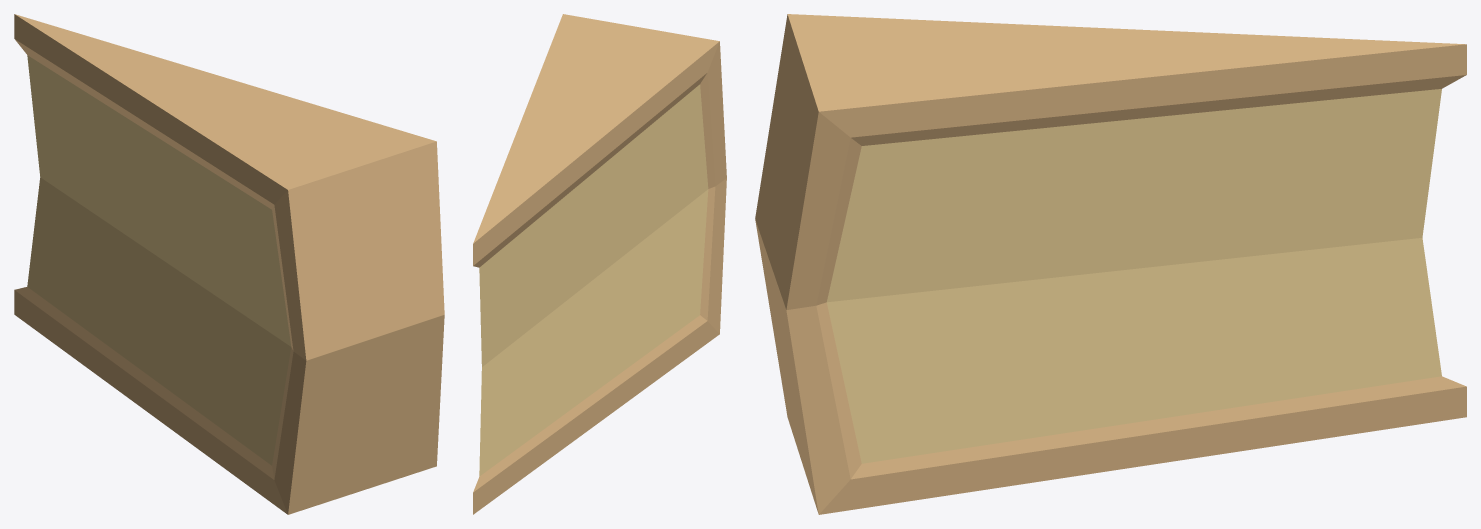
File: CheeseWheelWedge.glb
3 views of the same model, side by side, from view 1: azimuth 30°, elevation 25°; view 2: azimuth 150°, elevation 25°; view 3: azimuth 270°, elevation 25° (orthographic). The views are drawn at different scales.
Visible parts, largest first — view 1: CheeseWheelWedge; view 2: CheeseWheelWedge; view 3: CheeseWheelWedge.
Boxes of the visible parts, x1,y1,x2,y2 form: CheeseWheelWedge: [14, 14, 444, 514]; CheeseWheelWedge: [473, 14, 726, 514]; CheeseWheelWedge: [755, 14, 1466, 514].
Bounding box in the file's own units: 0.0193 × 0.037 × 0.0593.
